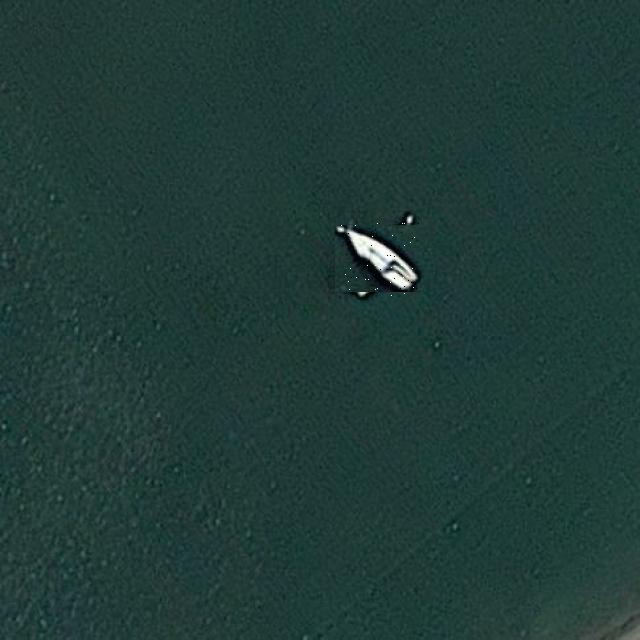boat: (341, 219, 419, 298)
